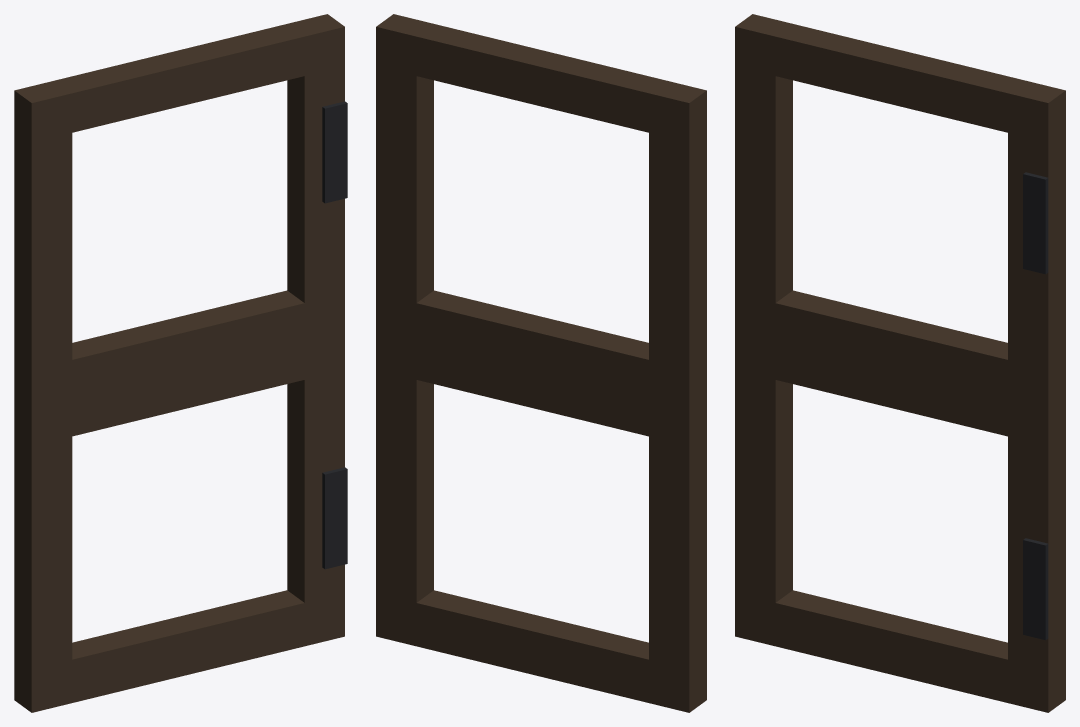
Rendered from SM_Wall_WindowSash_Right_01.fbx.
3 views of the same model, side by side, from view 1: azimuth 30°, elevation 25°; view 2: azimuth 150°, elevation 25°; view 3: azimuth 330°, elevation 25° (orthographic).
Parts seen in each view (by area): view 1: SM_Wall_WindowSash_Right_01; view 2: SM_Wall_WindowSash_Right_01; view 3: SM_Wall_WindowSash_Right_01.
Part boxes in pixels (box(x1,y1,x2,y2)): SM_Wall_WindowSash_Right_01: box(14, 14, 347, 712); SM_Wall_WindowSash_Right_01: box(376, 14, 706, 712); SM_Wall_WindowSash_Right_01: box(735, 14, 1065, 712).
Size of the model in its own units: 0.415 by 0.772 by 0.046.
Materials: 1 (1 with a texture image).
